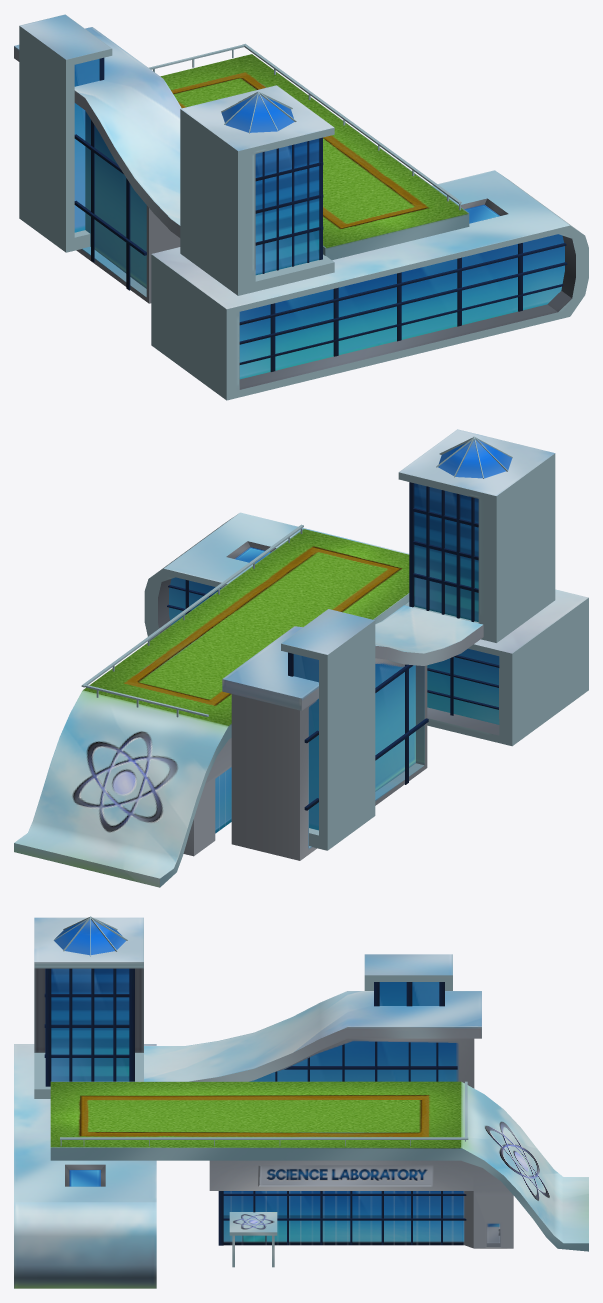
The model's file is Tx_Exterior_Business_ScienceLab_20170713.fbx.
The picture shows the model from 3 angles, top to bottom: view 1: azimuth 30°, elevation 25°; view 2: azimuth 150°, elevation 25°; view 3: azimuth 270°, elevation 25°; orthographic projection. The views are drawn at different scales.
Parts seen in each view (by area): view 1: Building1; view 2: Building1; view 3: Building1.
Part boxes in pixels (bbox=[...]): Building1: bbox=[14, 14, 588, 400]; Building1: bbox=[14, 429, 588, 887]; Building1: bbox=[14, 916, 588, 1288].
Size of the model in its own units: 18.8 by 13.21 by 27.36.
